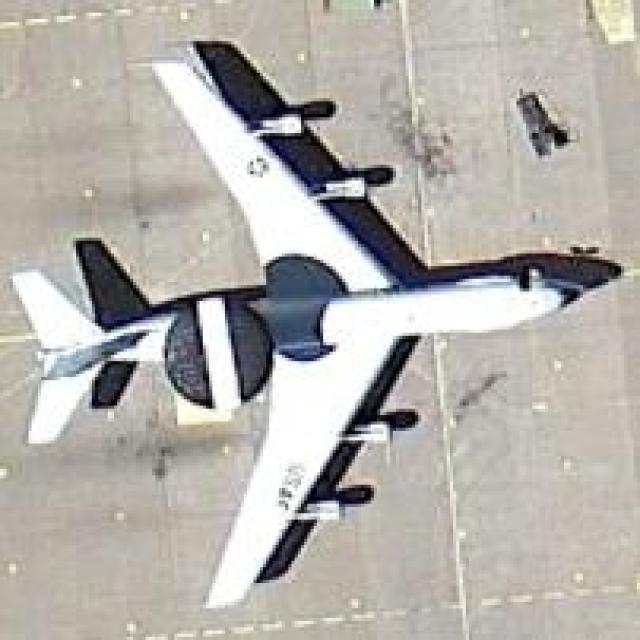E-3_TopDown: (6, 35, 628, 608)
